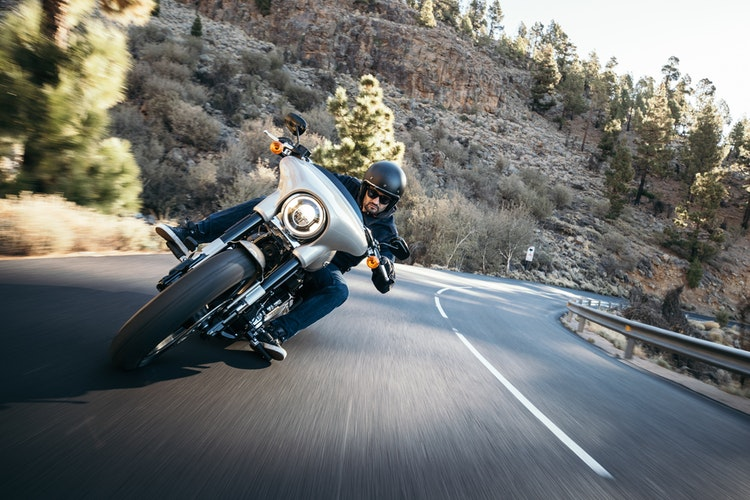helmet: (364, 162, 410, 204)
